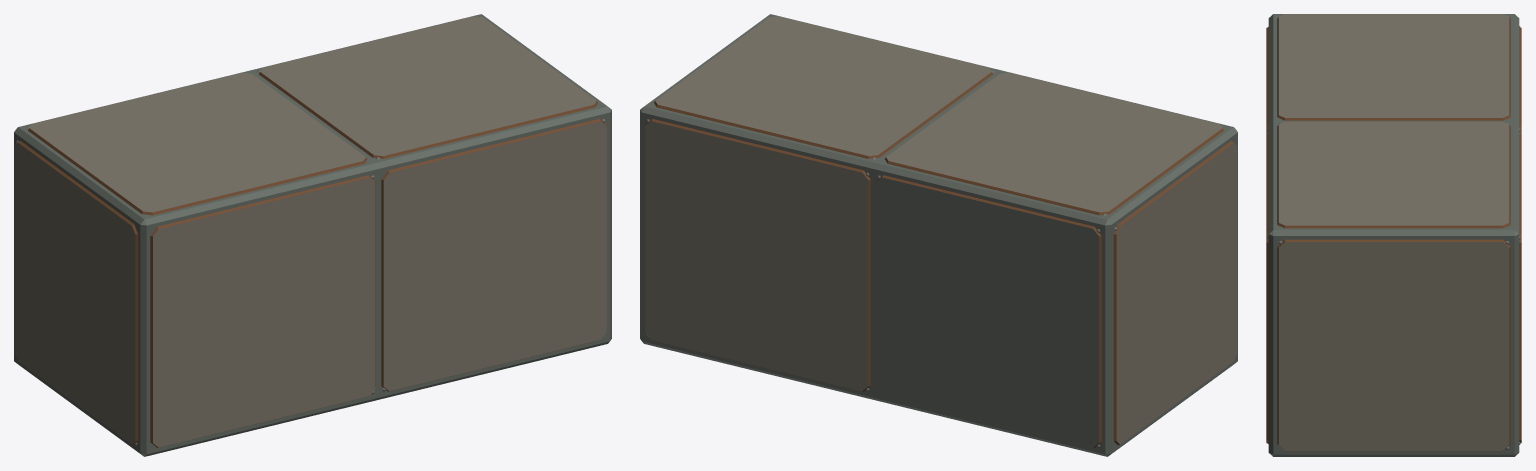
The model's file is R4B_Beam2.fbx.
The picture shows the model from 3 angles, left to right: view 1: azimuth 30°, elevation 25°; view 2: azimuth 150°, elevation 25°; view 3: azimuth 270°, elevation 25°; orthographic projection. The views are drawn at different scales.
Parts seen in each view (by area): view 1: R4B_Beam2; view 2: R4B_Beam2; view 3: R4B_Beam2.
Part boxes in pixels (x1,y1,x2,y2): R4B_Beam2: (14, 14, 611, 456); R4B_Beam2: (640, 14, 1237, 456); R4B_Beam2: (1266, 14, 1521, 456).
Bounding box in the file's own units: 1.07 × 0.52 × 0.52.
